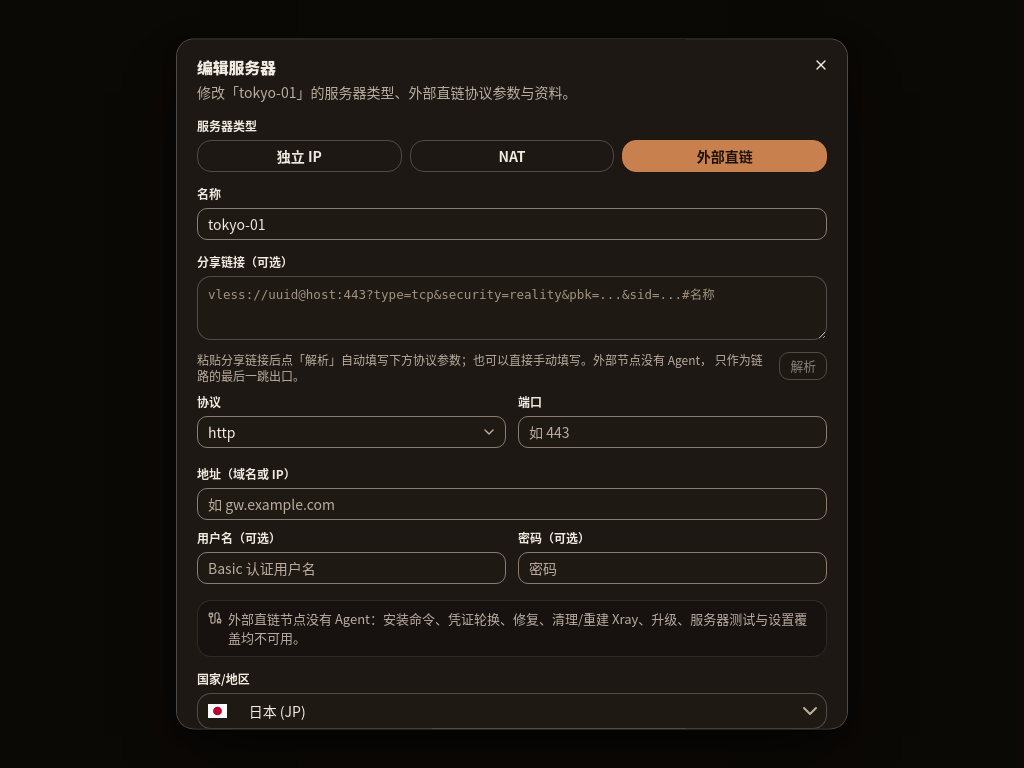
ServerEditDialog › switches an external server back to managed direct and shows install command notice
Expected: the text box with id "editExternal-link" is shown, [197,276,827,340]
Click the radio button labelled "独立 IP". click: (299, 156)
box: [197,140,402,172]
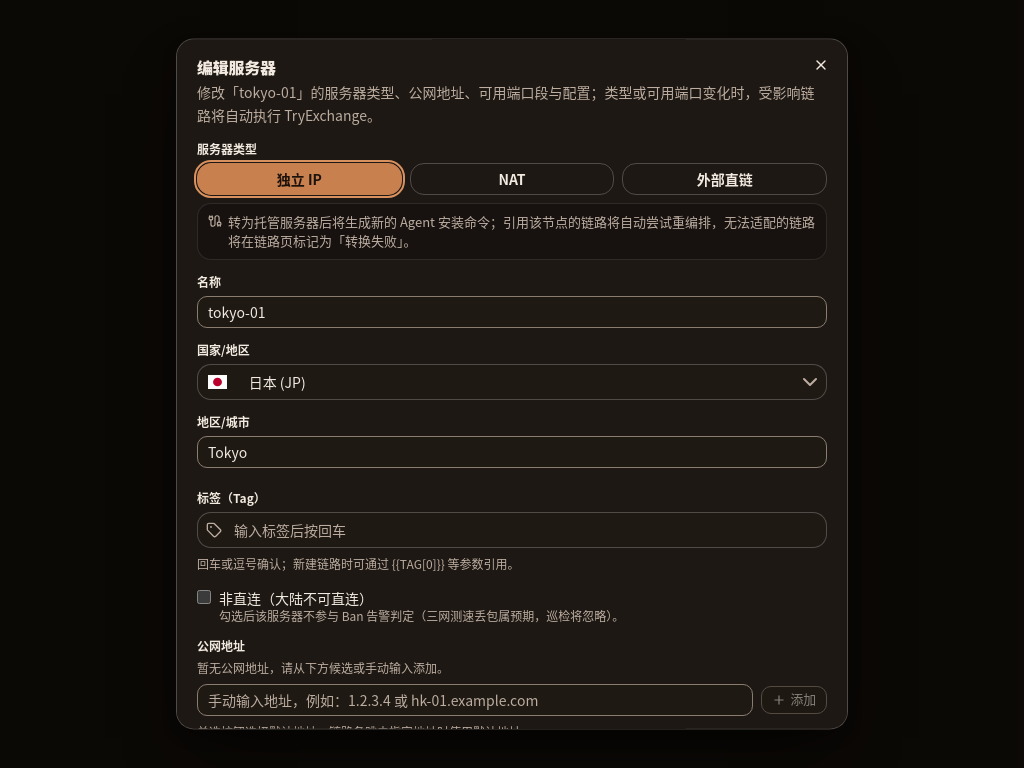
Result: the text "将生成新的 Agent 安装命令" is shown at [228,212,815,250]
Result: the label with id "editExternal-link" is gone
